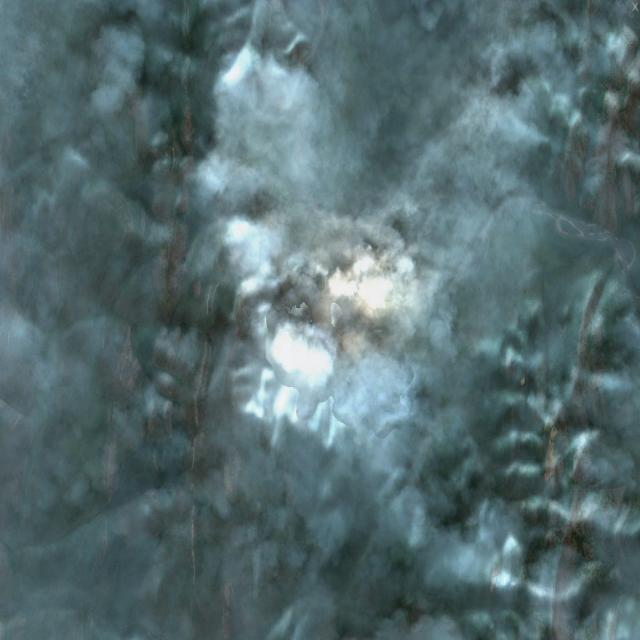fire: (318, 241, 407, 328)
